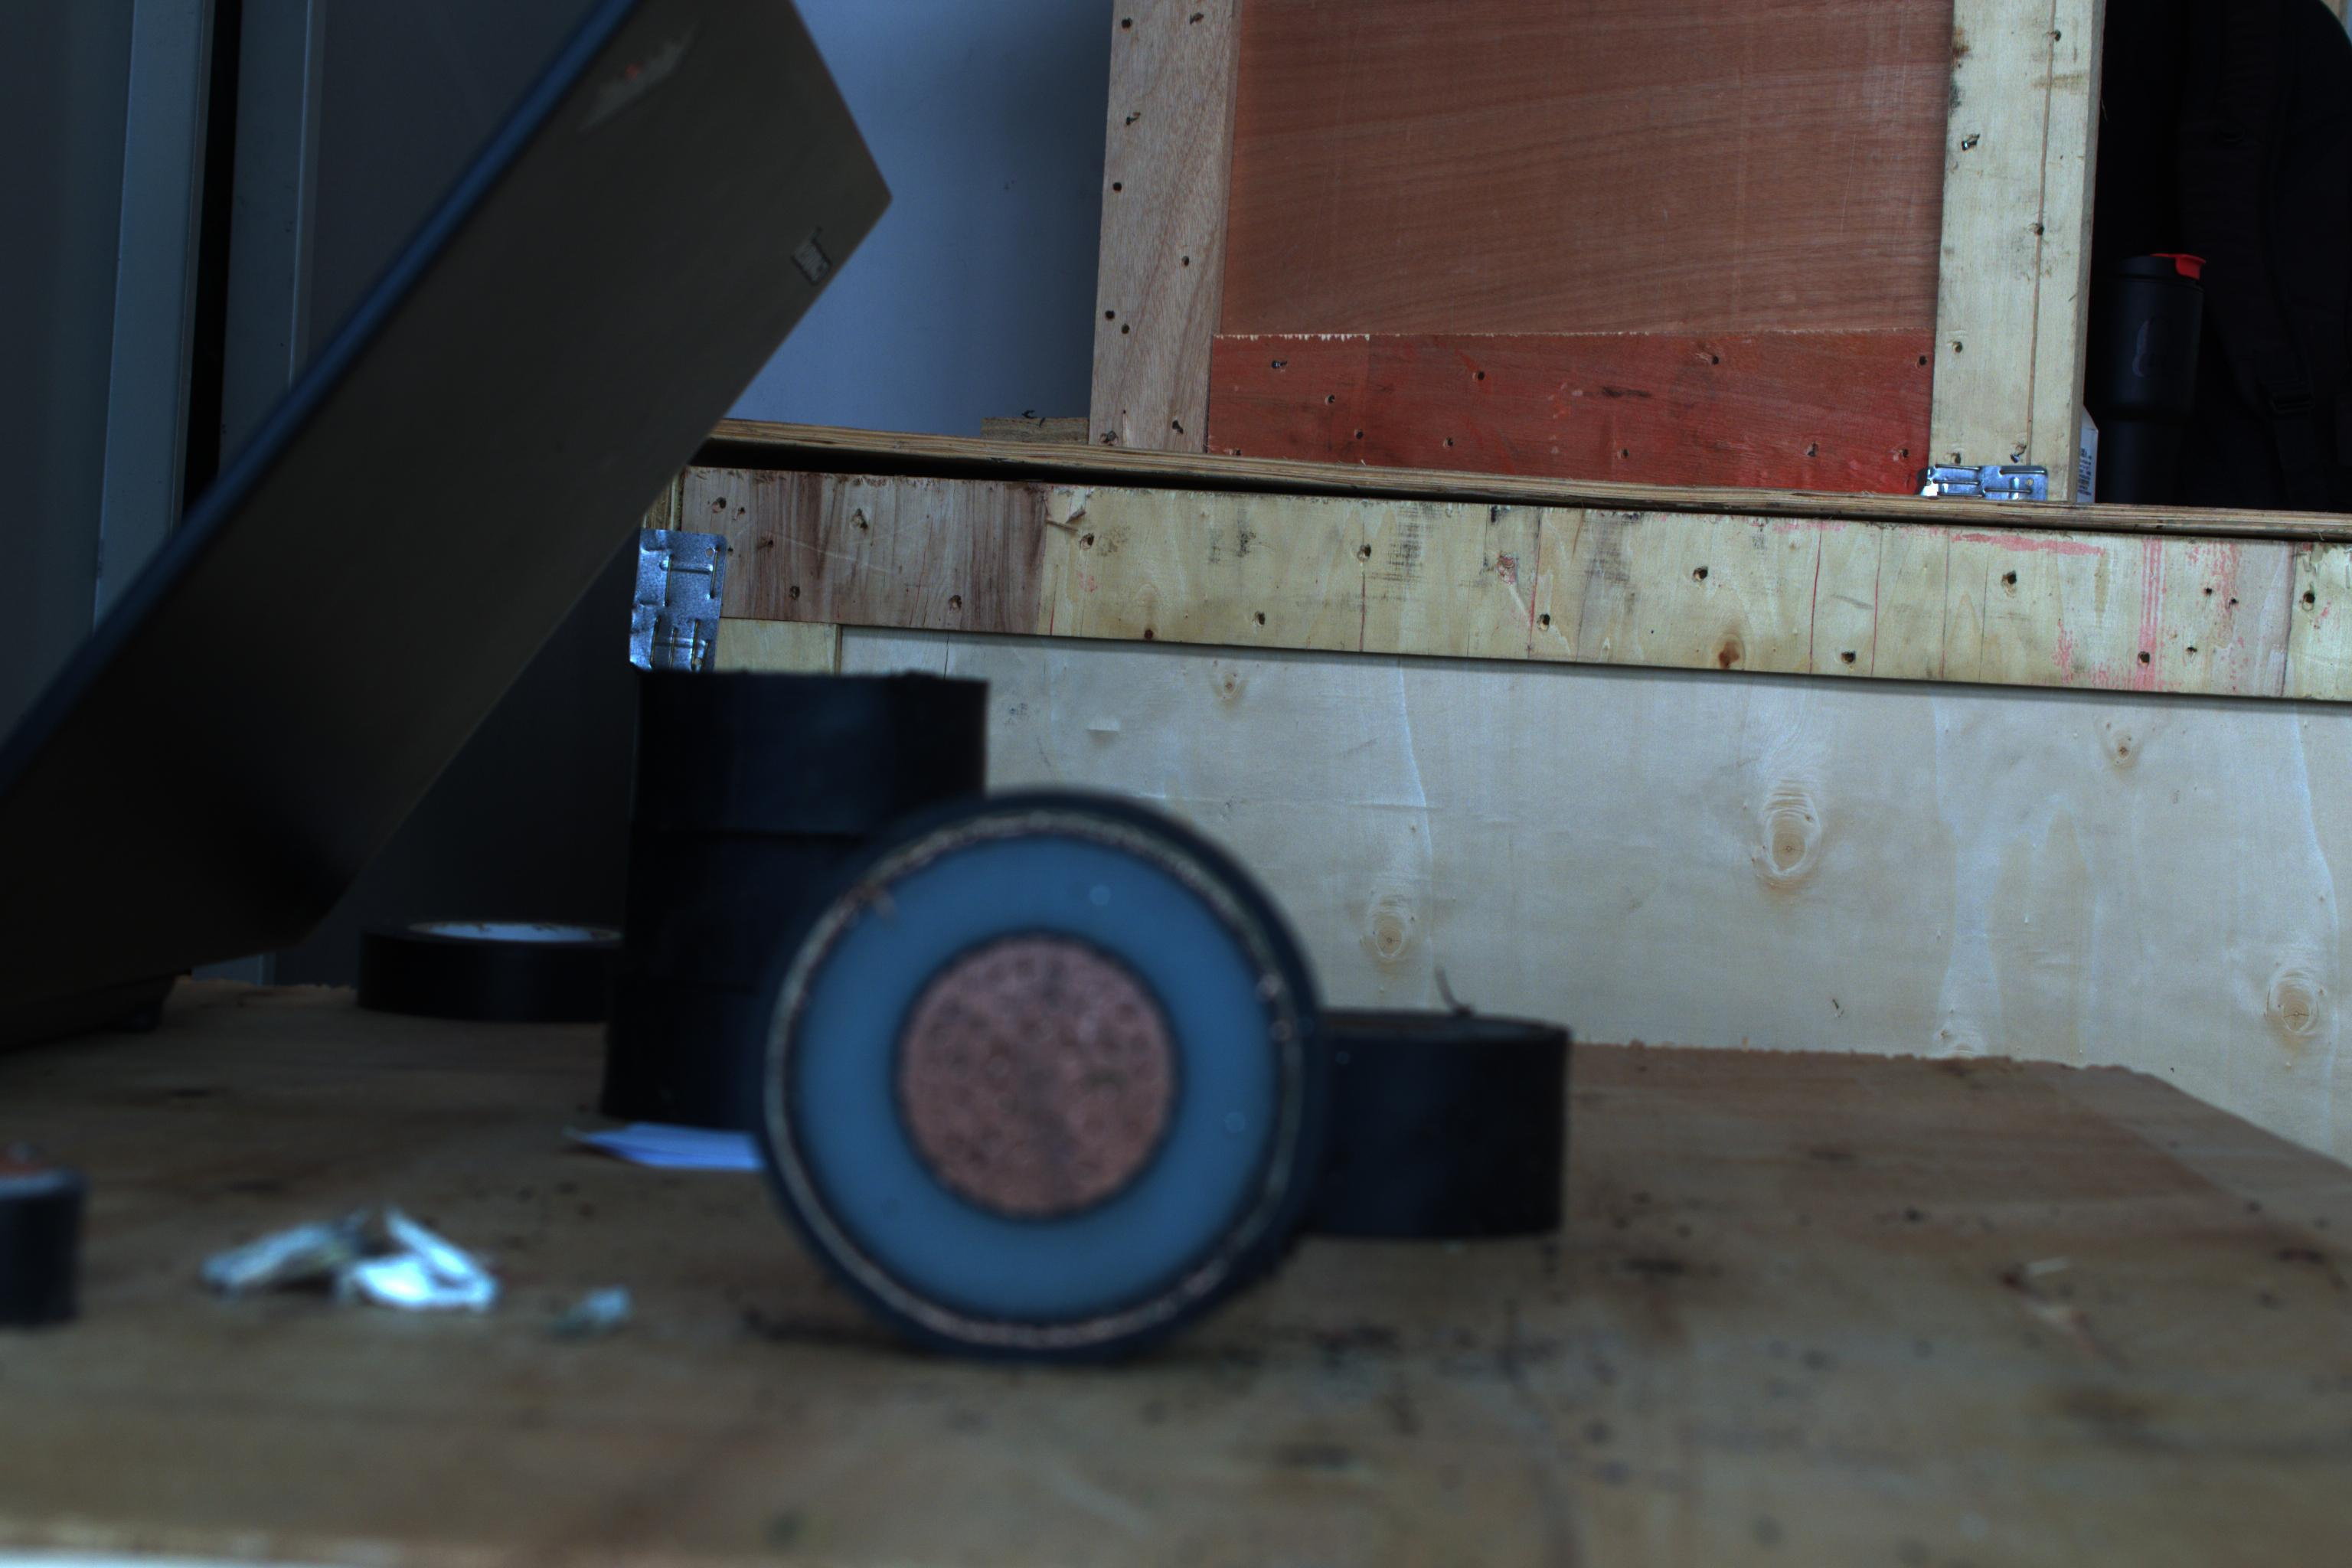YJV_26_35kV_1x630: (728, 782, 1347, 1370)
